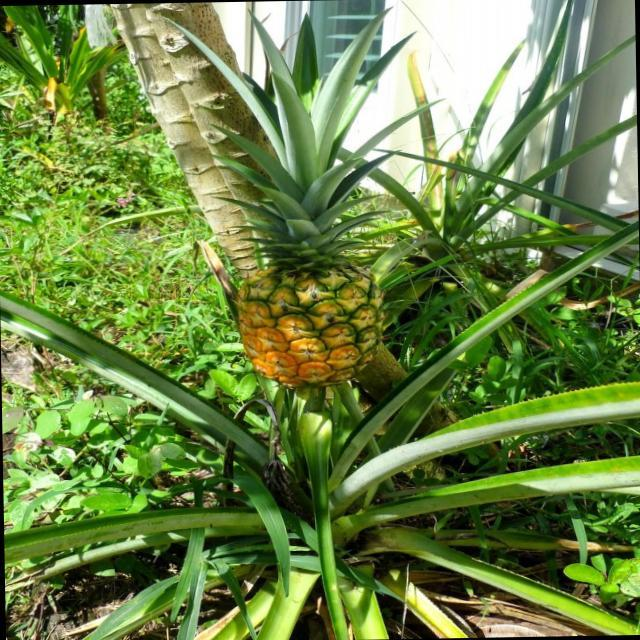PINEAPLE: (221, 14, 392, 382)
